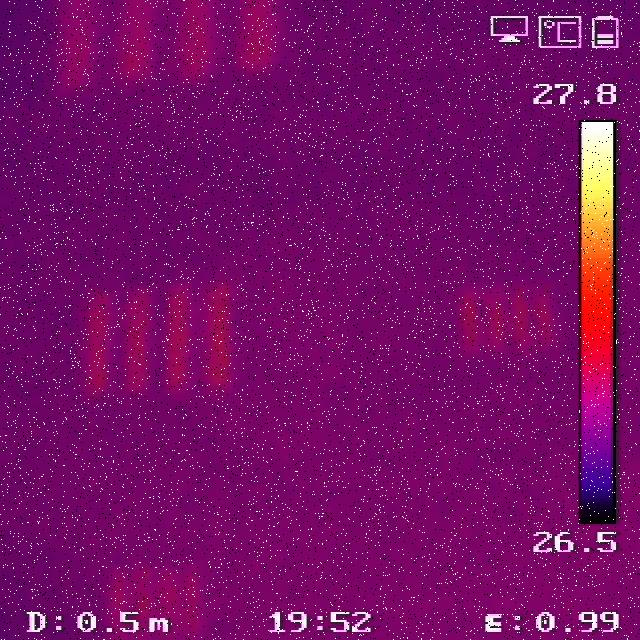Distinguishable 4-bar target: (78, 283, 234, 397), (54, 12, 278, 73)
Indistinguishable 4-bar target: (108, 570, 196, 640)
threshold 4-bar target: (456, 286, 556, 352)
